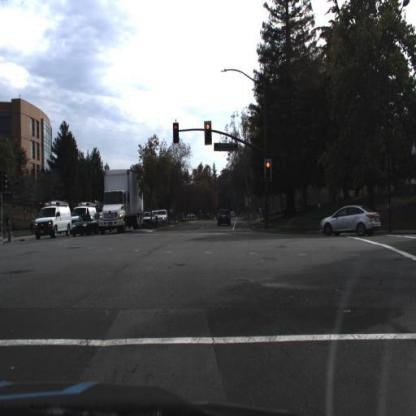biker: (3, 211, 17, 247), (5, 213, 13, 242)
car: (319, 203, 383, 237), (33, 201, 72, 243), (69, 211, 100, 239), (70, 204, 98, 221), (217, 206, 236, 231), (155, 206, 171, 229), (143, 210, 157, 225)
pedestrian: (29, 210, 35, 237)
trafficLight-Red: (265, 159, 274, 186), (205, 120, 214, 146)
trafficLight-RedLeft: (174, 123, 182, 146)
truck: (99, 165, 145, 238), (35, 203, 74, 239), (73, 205, 96, 226)
